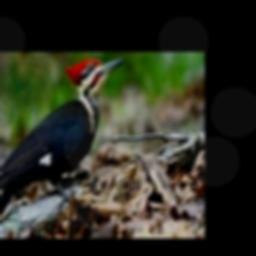Woodpecker: (0, 58, 125, 238)
